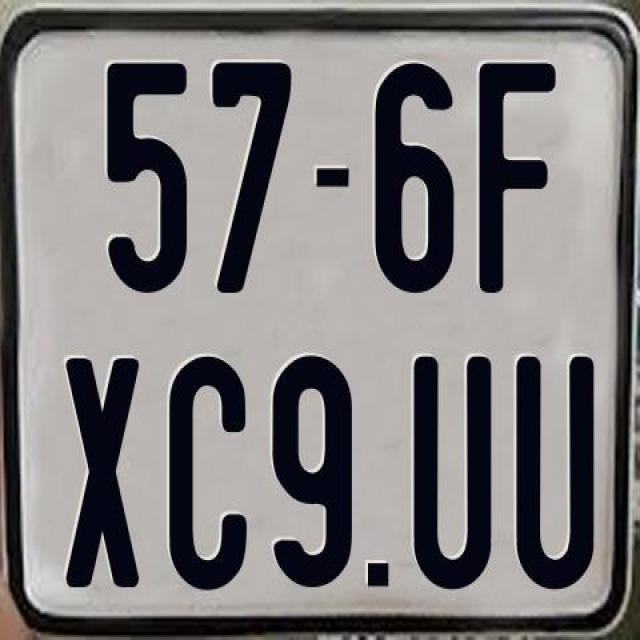5: (104, 59, 190, 299)
6: (374, 62, 458, 296)
7: (208, 61, 289, 293)
9: (272, 352, 355, 589)
C: (166, 354, 250, 588)
F: (474, 62, 558, 296)
U: (513, 352, 595, 592), (410, 357, 488, 592)
X: (62, 355, 142, 584)
